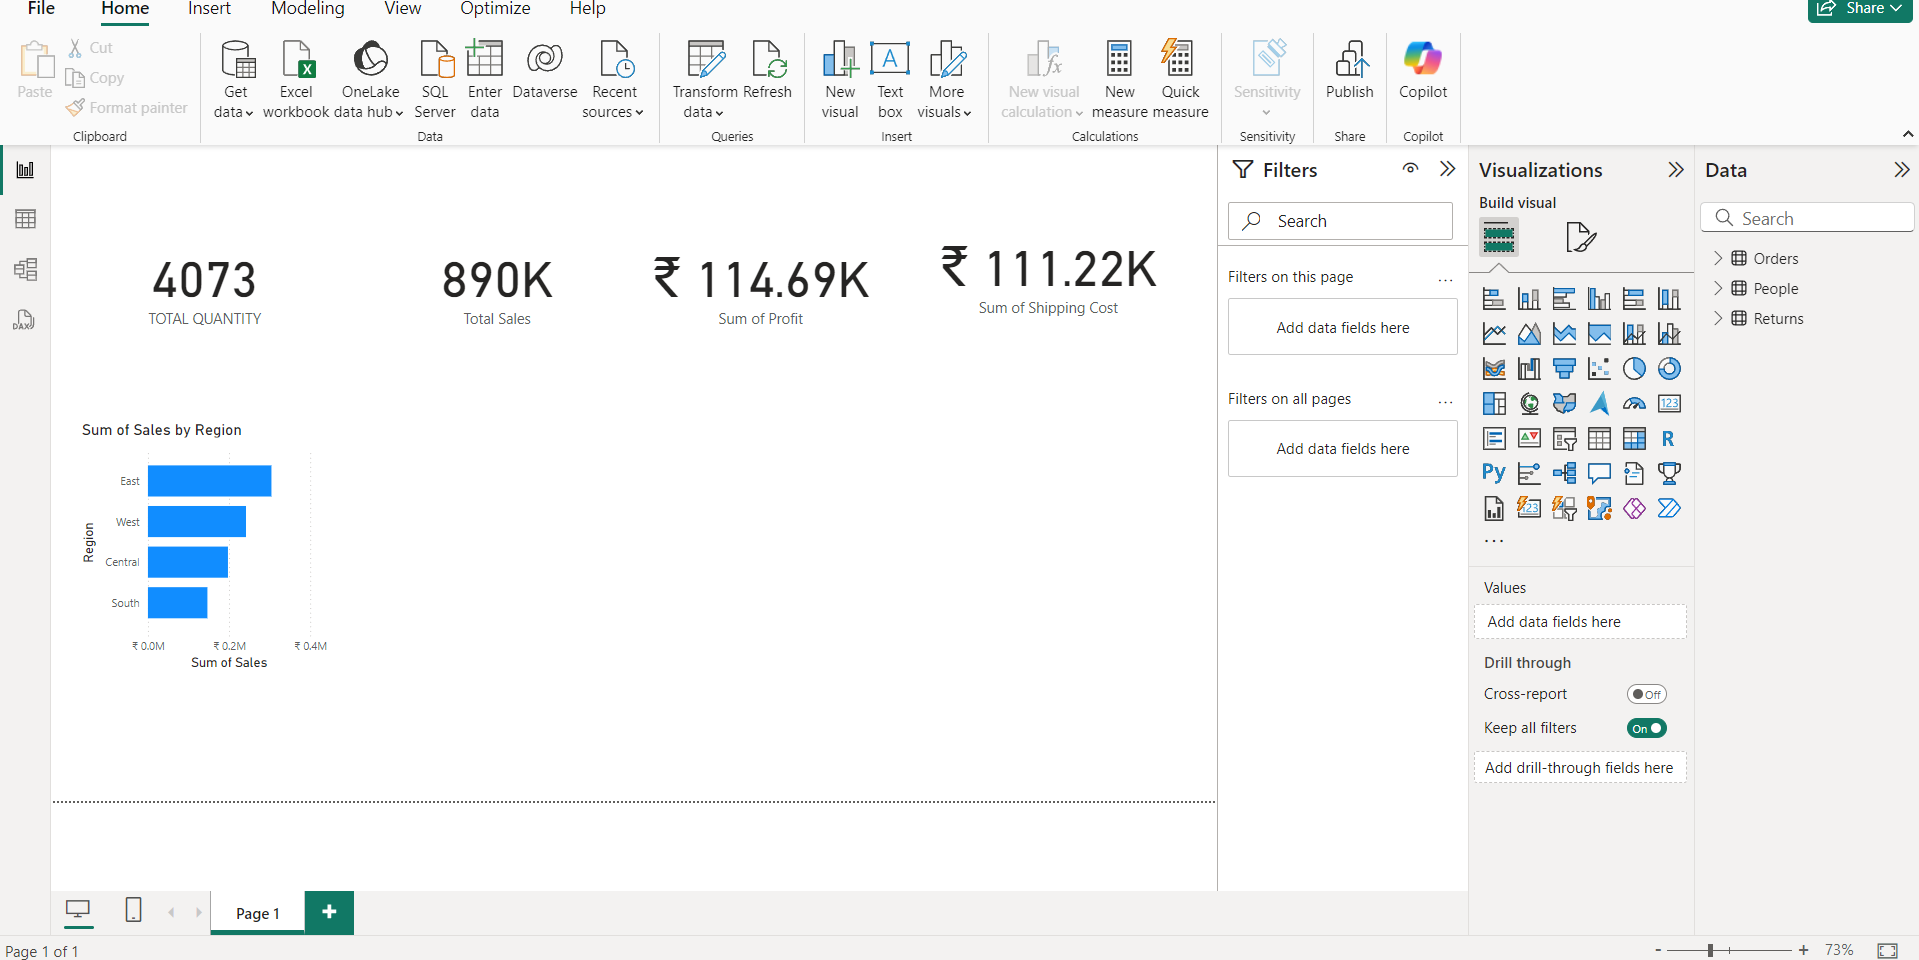

This screenshot's page, from the dashboard's own definition file:
{"tool":"powerbi","page":{"name":"Page 1","canvas":[1280,720],"ordinal":0},"visuals":[{"type":"card","fields":{"Values":["Orders.TOTAL QUANTITY"]},"box":[28.8,12.3,279.9,279.9],"z":0},{"type":"card","fields":{"Values":["Orders.Total Sales"]},"box":[349.9,12.3,279.9,279.9],"z":1},{"type":"card","fields":{"Values":["Sum(Orders.Profit)"]},"box":[639.5,12.3,279.9,279.9],"z":2},{"type":"card","fields":{"Values":["Sum(Orders.Shipping Cost)"]},"box":[955.1,0,279.9,279.9],"z":3},{"type":"clusteredBarChart","fields":{"Category":["Orders.Region"],"Y":["Sum(Orders.Sales)"]},"box":[29,302,280,280],"z":4}]}

Visuals, with their boxes on the page's 1280x720 design canvas (x1, y1, x2, y2). These are canvas units, not pixel positions in the 1919x960 screenshot, which may show the page scaled, cropped or inside an application window:
card - Orders.TOTAL QUANTITY: crop(29, 12, 309, 292)
card - Orders.Total Sales: crop(350, 12, 630, 292)
card - Sum(Orders.Profit): crop(640, 12, 919, 292)
card - Sum(Orders.Shipping Cost): crop(955, 0, 1235, 280)
clusteredBarChart - Orders.Region x Sum(Orders.Sales): crop(29, 302, 309, 582)
